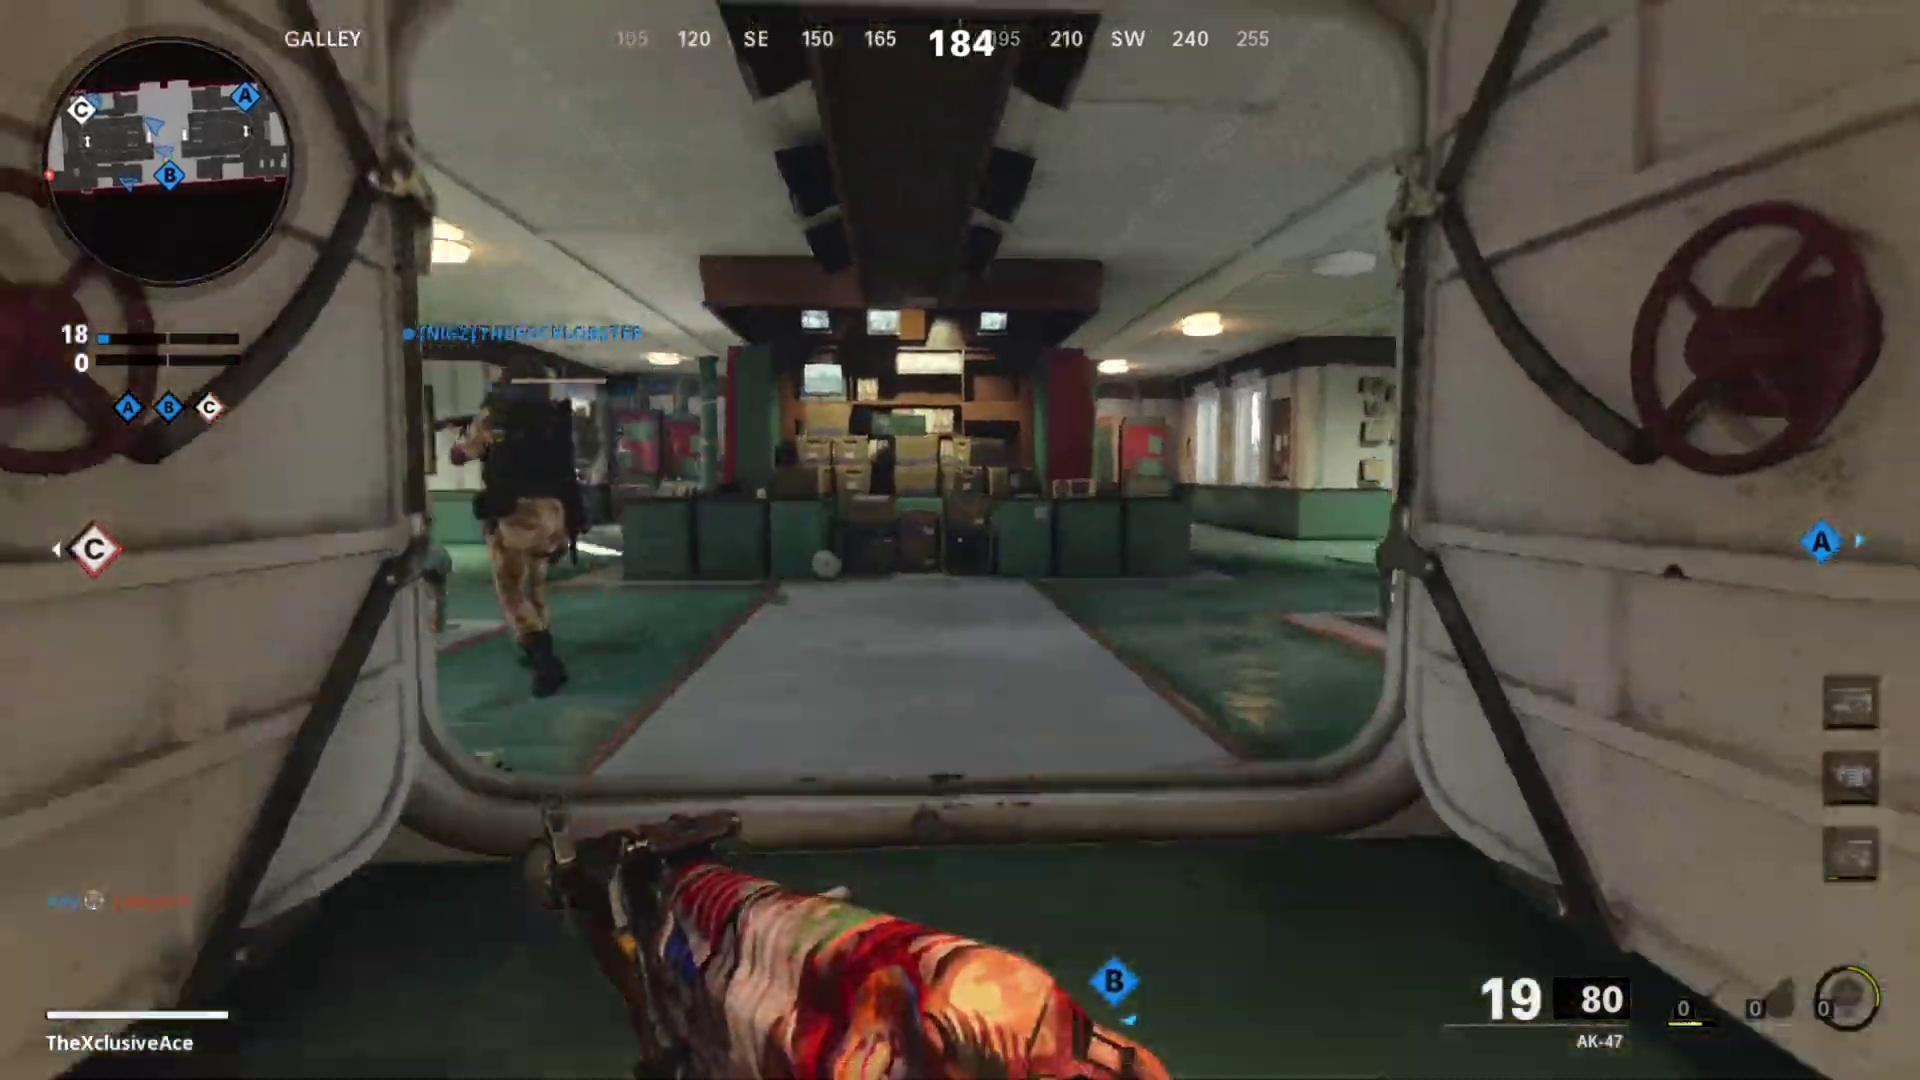person: (442, 362, 587, 688)
